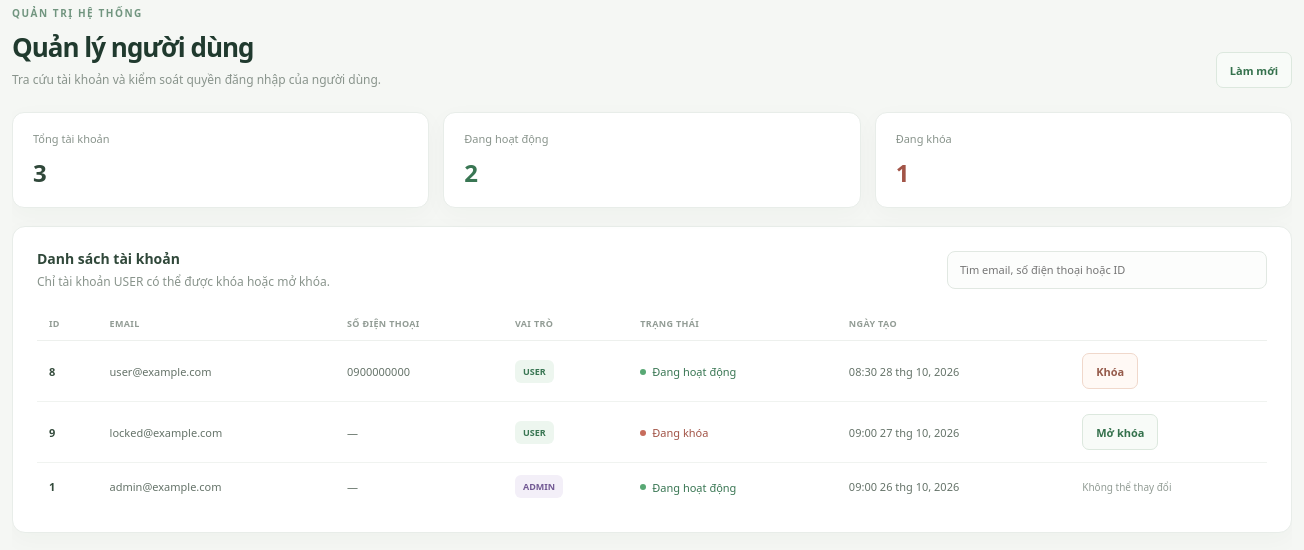
Test: filters users by email, phone number, or id
The width and height of the screenshot is (1304, 550).
Expected: the text "user@example.com" is shown, [98,340,335,402]
Type "0900000000" into the search field named "Tìm người dùng".
click(1107, 270); type("0900000000")  # box [947,250,1267,288]
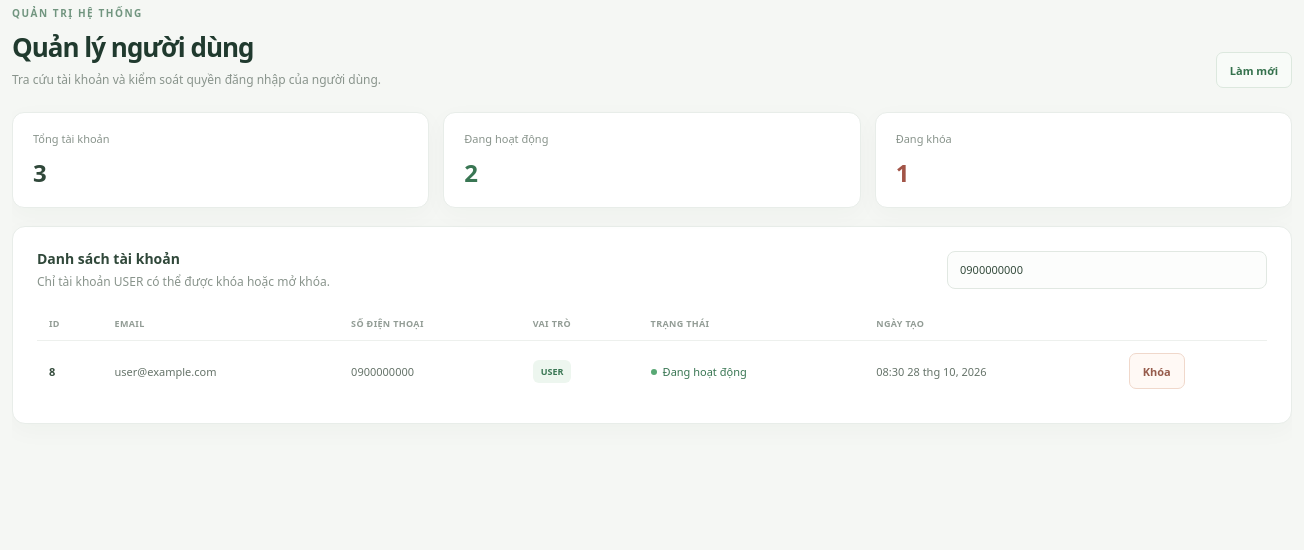
Expected: the text "user@example.com" is shown, [102,340,339,401]
Result: the text "locked@example.com" is gone
Result: the text "admin@example.com" is gone
